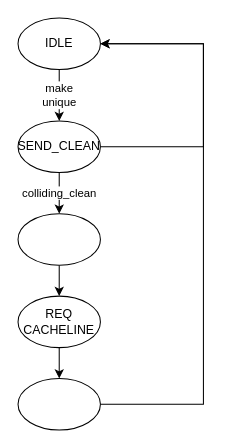
The diagram is 230 pixels wide and 448 high, and some of its shapes have lost their labels. The shapes that lost their labels are listed below. From the top down, each one's centre as x and y in pixels, then its label:
(58,239): MISS
(58,403): SAVE CACHELINE
